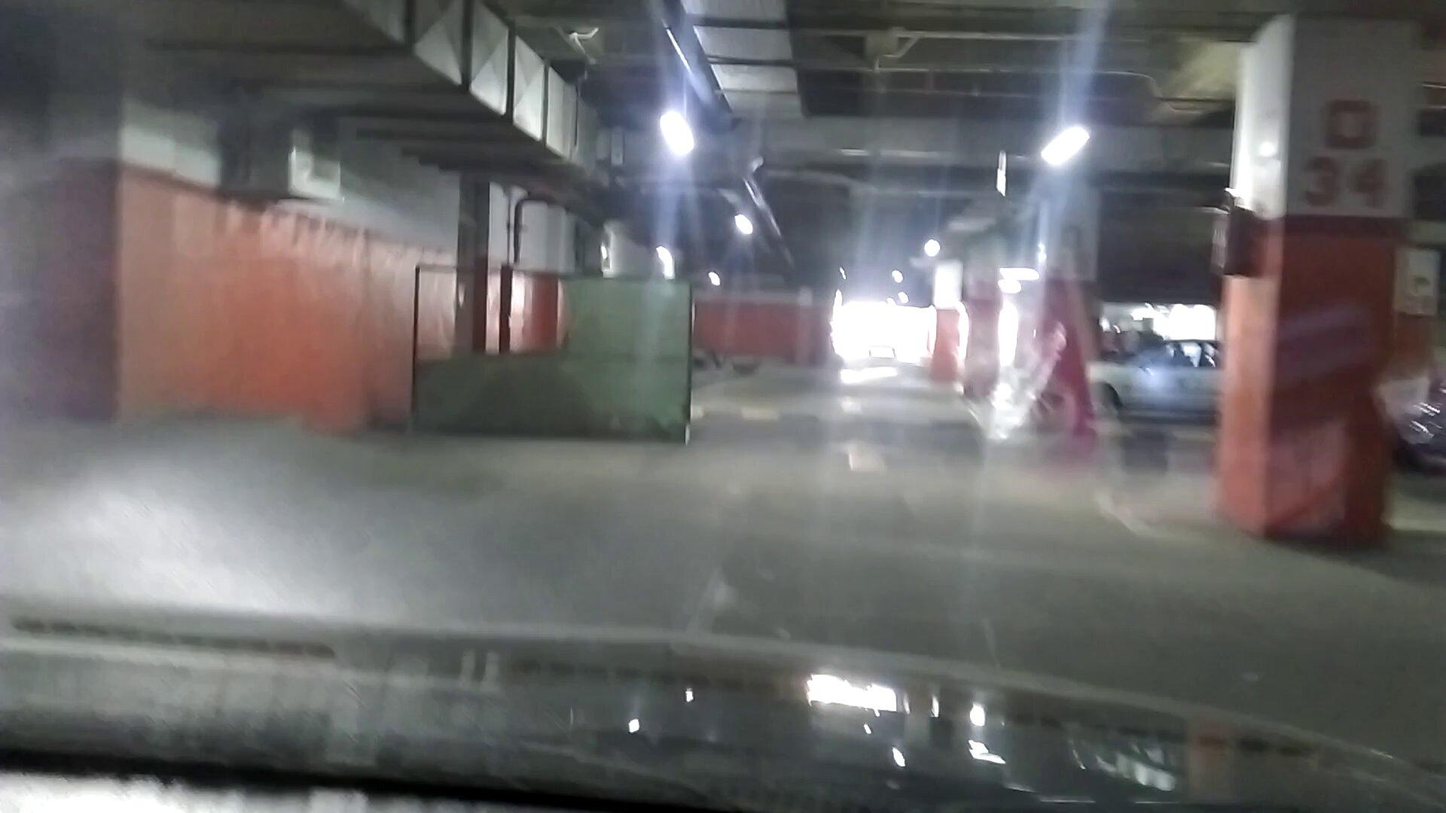Bump: (693, 403, 960, 423)
